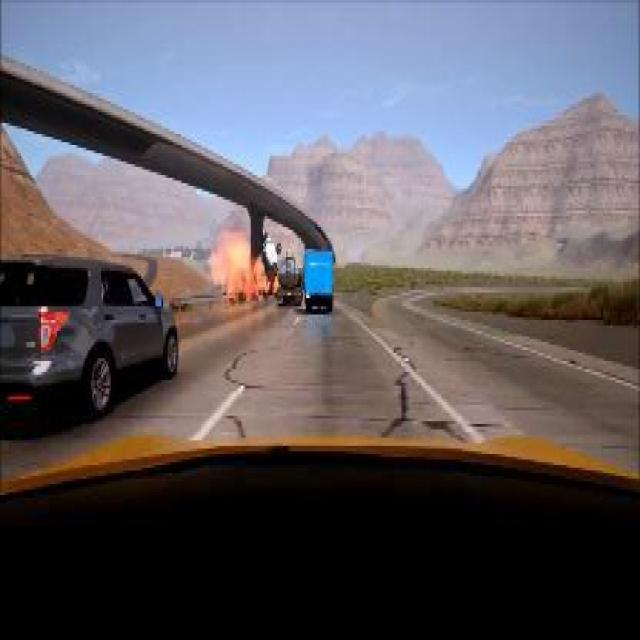accident: (256, 227, 282, 284)
